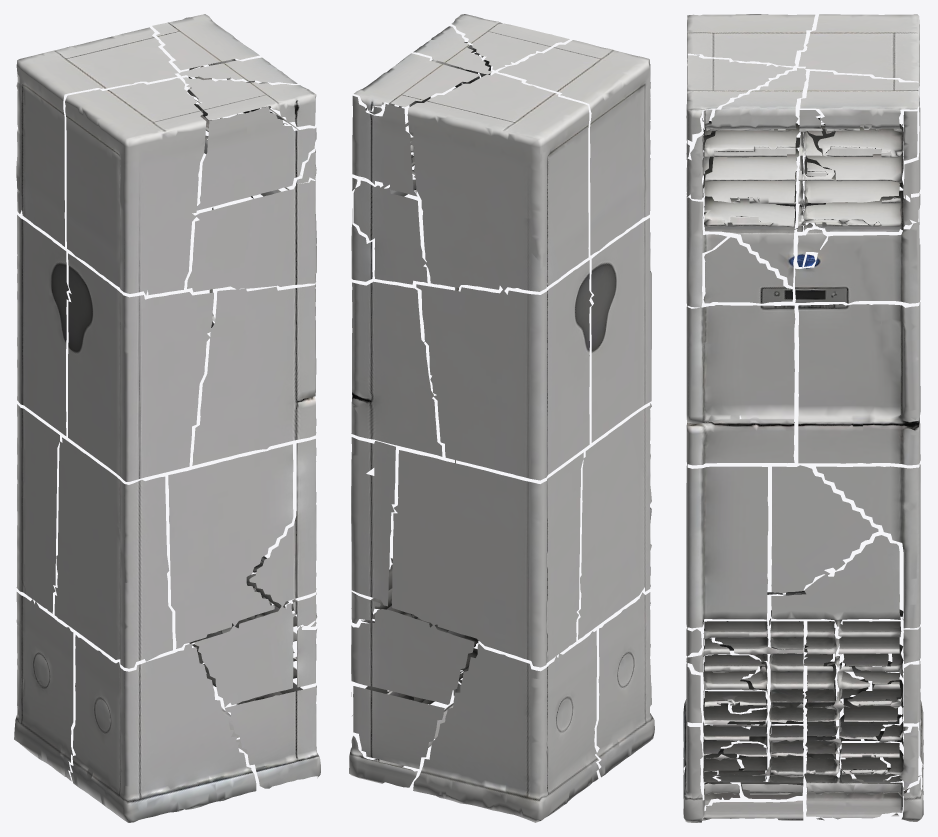
Rendered from standing_air_conditioner.glb.
3 renders of one model, left to right at view 1: azimuth 30°, elevation 25°; view 2: azimuth 150°, elevation 25°; view 3: azimuth 270°, elevation 25°, orthographic. The views are drawn at different scales.
Visible parts, largest first — view 1: standing_ac; view 2: standing_ac; view 3: standing_ac.
Boxes of the visible parts, <box> form: standing_ac: <box>14,14,320,822</box>; standing_ac: <box>349,14,654,822</box>; standing_ac: <box>683,14,923,822</box>.
Bounding box in the file's own units: 0.298 × 1 × 0.3057.
1 material, 1 textured.
